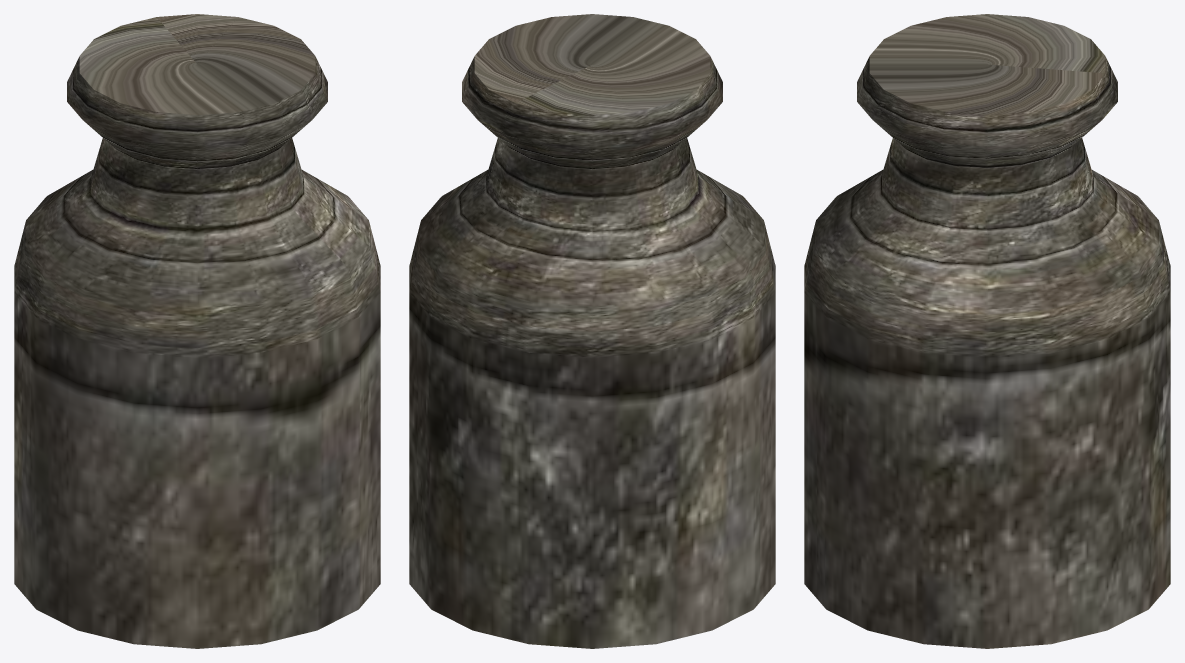
The model's file is weight.FBX.
The picture shows the model from 3 angles, left to right: view 1: azimuth 30°, elevation 25°; view 2: azimuth 150°, elevation 25°; view 3: azimuth 270°, elevation 25°; orthographic projection.
Parts seen in each view (by area): view 1: Cylinder01; view 2: Cylinder01; view 3: Cylinder01.
Part boxes in pixels (bbox=[...]): Cylinder01: bbox=[14, 14, 380, 648]; Cylinder01: bbox=[409, 14, 775, 648]; Cylinder01: bbox=[804, 14, 1170, 648].
Size of the model in its own units: 10 by 15 by 9.85.
1 material, 1 textured.
